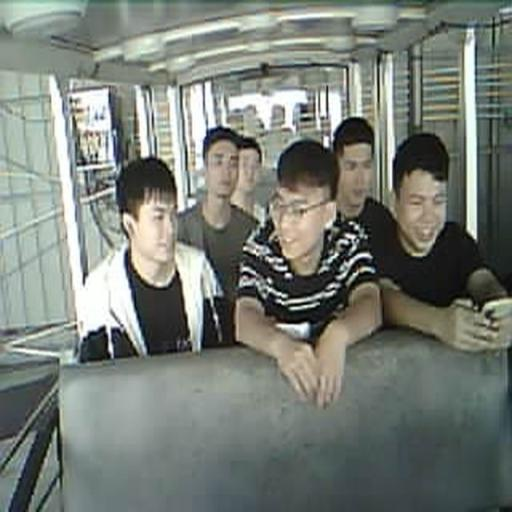persona: (233, 137, 384, 410), (76, 155, 234, 363), (370, 131, 511, 354), (175, 126, 260, 300), (330, 116, 396, 253), (230, 136, 266, 223)
